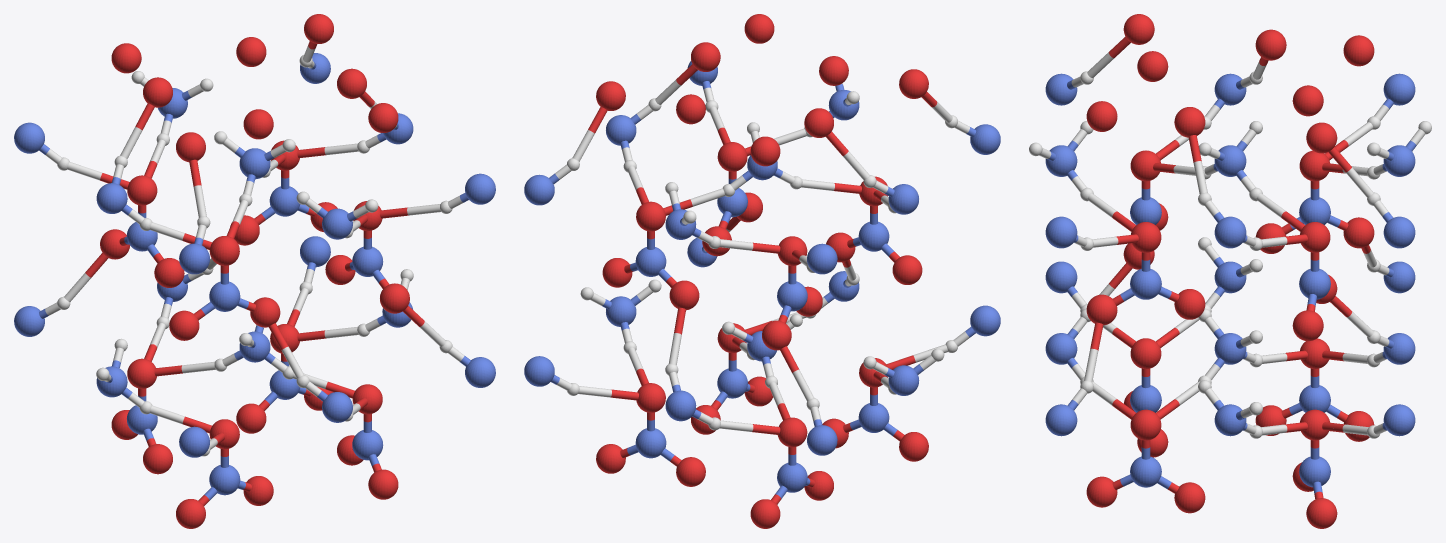
The model's file is ammoniumnitrate.dae.
3 renders of one model, left to right at view 1: azimuth 30°, elevation 25°; view 2: azimuth 150°, elevation 25°; view 3: azimuth 270°, elevation 25°, orthographic. The views are drawn at different scales.
Parts seen in each view (by area): view 1: Ball_Nitrogen_013, Ball_Nitrogen_015, Ball_Nitrogen_019, Ball_Nitrogen_009, Ball_Nitrogen_014, Ball_Nitrogen_011, Ball_Nitrogen_017, Ball_Nitrogen_010, Ball_Nitrogen_001, Ball_Nitrogen_012, Ball_Nitrogen_025, Ball_Oxygen_004 (+36 smaller); view 2: Ball_Nitrogen_010, Ball_Nitrogen_018, Ball_Nitrogen_016, Ball_Nitrogen_009, Ball_Nitrogen_014, Ball_Nitrogen_012, Ball_Nitrogen_019, Ball_Nitrogen_013, Ball_Nitrogen_006, Ball_Nitrogen_020, Ball_Nitrogen_023, Ball_Oxygen_017 (+34 smaller); view 3: Ball_Nitrogen_020, Ball_Nitrogen_015, Ball_Nitrogen_016, Ball_Nitrogen_011, Ball_Nitrogen_012, Ball_Nitrogen_009, Ball_Nitrogen_017, Ball_Nitrogen_014, Ball_Nitrogen_003, Ball_Nitrogen_007, Ball_Oxygen_018, Ball_Oxygen_011 (+40 smaller).
Boxes of the visible parts, box(x1,y1,x2,y2) form: Ball_Nitrogen_013: box(179, 243, 209, 274); Ball_Nitrogen_015: box(465, 173, 495, 204); Ball_Nitrogen_019: box(96, 183, 127, 213); Ball_Nitrogen_009: box(179, 426, 209, 457); Ball_Nitrogen_014: box(14, 122, 44, 153); Ball_Nitrogen_011: box(465, 357, 495, 387); Ball_Nitrogen_017: box(322, 392, 352, 422); Ball_Nitrogen_010: box(14, 306, 44, 336); Ball_Nitrogen_001: box(209, 281, 240, 311); Ball_Nitrogen_012: box(300, 236, 330, 267); Ball_Nitrogen_025: box(322, 208, 352, 239); Ball_Oxygen_004: box(111, 43, 141, 73); Ball_Nitrogen_010: box(807, 425, 837, 455); Ball_Nitrogen_018: box(665, 390, 696, 421); Ball_Nitrogen_016: box(524, 174, 554, 205); Ball_Nitrogen_009: box(970, 305, 1000, 336); Ball_Nitrogen_014: box(807, 243, 837, 274); Ball_Nitrogen_012: box(524, 356, 554, 386); Ball_Nitrogen_019: box(888, 184, 918, 214); Ball_Nitrogen_013: box(970, 124, 1000, 154); Ball_Nitrogen_006: box(635, 428, 666, 458); Ball_Nitrogen_020: box(606, 115, 636, 145); Ball_Nitrogen_023: box(888, 365, 919, 395); Ball_Oxygen_017: box(819, 56, 848, 85); Ball_Nitrogen_020: box(1214, 216, 1246, 248); Ball_Nitrogen_015: box(1045, 216, 1077, 248); Ball_Nitrogen_016: box(1383, 216, 1415, 248); Ball_Nitrogen_011: box(1045, 404, 1077, 436); Ball_Nitrogen_012: box(1383, 404, 1415, 436); Ball_Nitrogen_009: box(1045, 261, 1077, 293); Ball_Nitrogen_017: box(1045, 333, 1077, 364); Ball_Nitrogen_014: box(1383, 73, 1415, 105); Ball_Nitrogen_003: box(1130, 456, 1161, 487); Ball_Nitrogen_007: box(1130, 269, 1161, 299); Ball_Oxygen_018: box(1292, 85, 1323, 116); Ball_Oxygen_011: box(1130, 409, 1161, 440).
Bounding box in the file's own units: 9.51 × 9.51 × 10.51.
